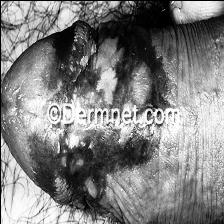Toxin: (51, 30, 166, 192)
